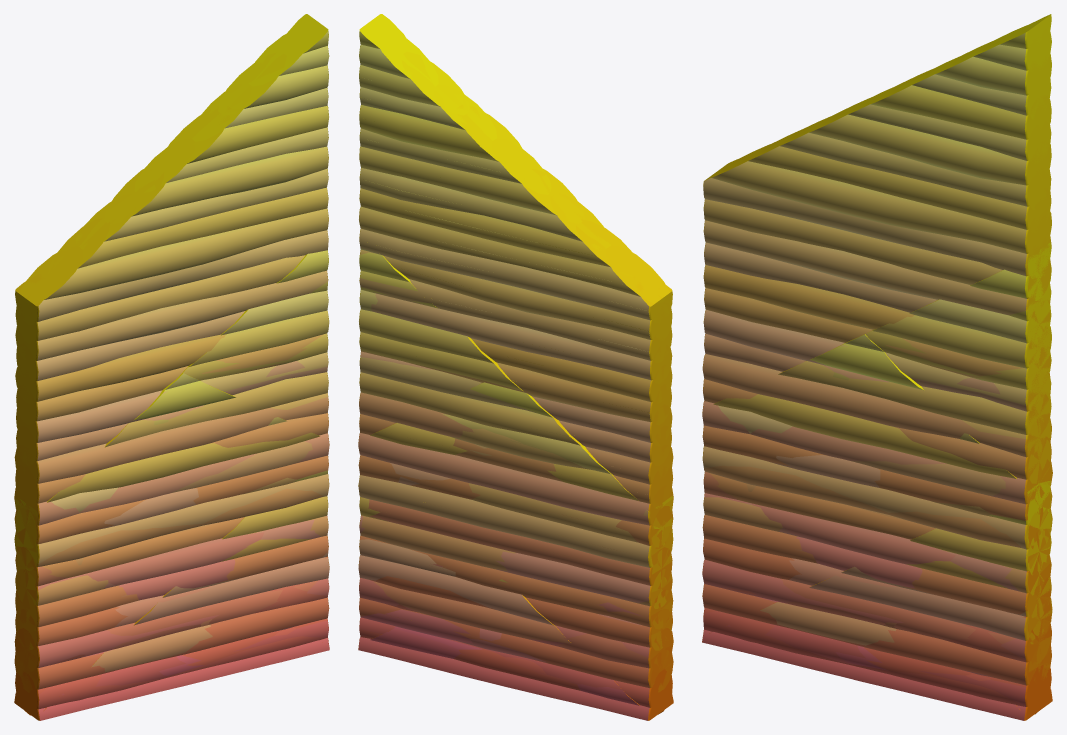
Rendered from gables.glb.
The picture shows the model from 3 angles, left to right: view 1: azimuth 30°, elevation 25°; view 2: azimuth 150°, elevation 25°; view 3: azimuth 330°, elevation 25°; orthographic projection. The views are drawn at different scales.
Parts seen in each view (by area): view 1: gable_slope_t2_odd, gable_slope_t2_even, gable_slope_t1_even, gable_slope_t1_odd, gable_peak_t1_odd, gable_peak_t1_even, gable_slope_t0_odd, gable_slope_t0_even, gable_peak_t0_odd; view 2: gable_slope_t2_odd, gable_slope_t2_even, gable_slope_t1_even, gable_slope_t1_odd, gable_peak_t1_odd, gable_peak_t1_even, gable_slope_t0_even, gable_slope_t0_odd, gable_peak_t0_even; view 3: gable_slope_t2_odd, gable_slope_t2_even, gable_slope_t1_even, gable_slope_t1_odd, gable_peak_t1_odd, gable_peak_t1_even, gable_slope_t0_even, gable_slope_t0_odd, gable_peak_t0_odd.
Boxes of the visible parts, x1,y1,x2,y2 form: gable_slope_t2_odd: (14, 14, 329, 720); gable_slope_t2_even: (14, 34, 329, 715); gable_slope_t1_even: (15, 250, 329, 710); gable_slope_t1_odd: (14, 281, 329, 719); gable_peak_t1_odd: (14, 380, 329, 710); gable_peak_t1_even: (14, 373, 319, 711); gable_slope_t0_odd: (15, 538, 329, 713); gable_slope_t0_even: (25, 470, 328, 711); gable_peak_t0_odd: (37, 624, 323, 719); gable_slope_t2_odd: (358, 14, 673, 720); gable_slope_t2_even: (358, 33, 673, 714); gable_slope_t1_even: (359, 252, 673, 710); gable_slope_t1_odd: (359, 248, 673, 718); gable_peak_t1_odd: (358, 382, 673, 719); gable_peak_t1_even: (360, 423, 672, 711); gable_slope_t0_even: (359, 497, 664, 706); gable_slope_t0_odd: (358, 555, 672, 712); gable_peak_t0_even: (370, 579, 657, 711); gable_slope_t2_odd: (702, 14, 1052, 720); gable_slope_t2_even: (702, 25, 1052, 714); gable_slope_t1_even: (702, 256, 1051, 707); gable_slope_t1_odd: (702, 242, 1051, 717); gable_peak_t1_odd: (702, 342, 1052, 719); gable_peak_t1_even: (713, 334, 1050, 706); gable_slope_t0_even: (725, 483, 1051, 710); gable_slope_t0_odd: (796, 480, 1052, 714); gable_peak_t0_odd: (708, 602, 1052, 718).
Size of the model in its own units: 2.01 by 4.1 by 0.3288.
